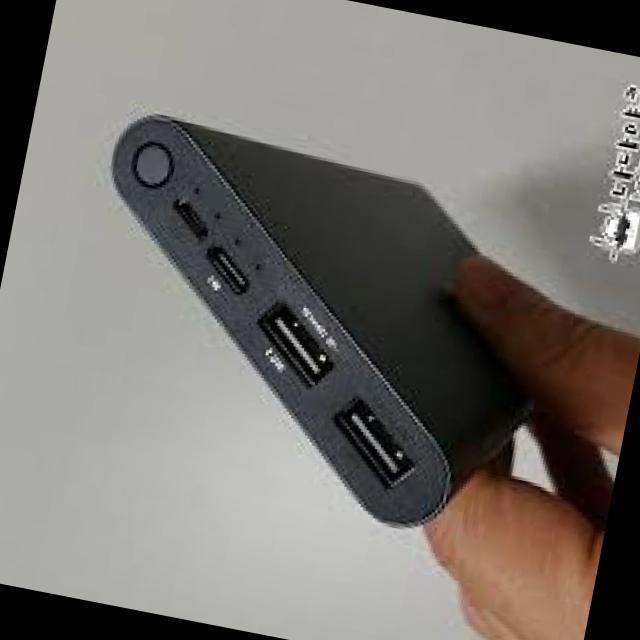portable-charger: (43, 119, 571, 552)
